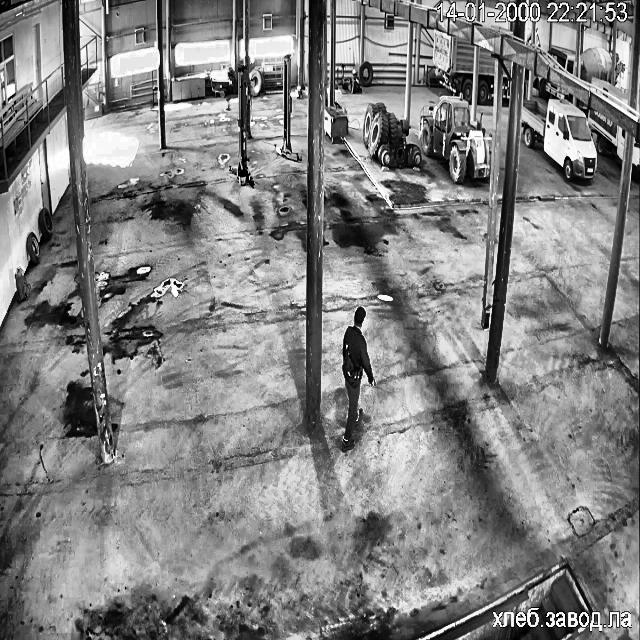class4: (342, 308, 374, 451)
class6: (420, 96, 489, 182), (362, 102, 420, 166)
class7: (521, 100, 596, 180), (432, 28, 473, 100), (588, 108, 625, 160), (580, 46, 624, 83), (477, 46, 494, 102), (593, 78, 628, 103), (536, 77, 571, 99), (548, 45, 574, 73), (498, 60, 511, 99), (632, 140, 640, 179)
tractor: (16, 268, 28, 300)
truck: (230, 65, 253, 186), (275, 54, 300, 161)
